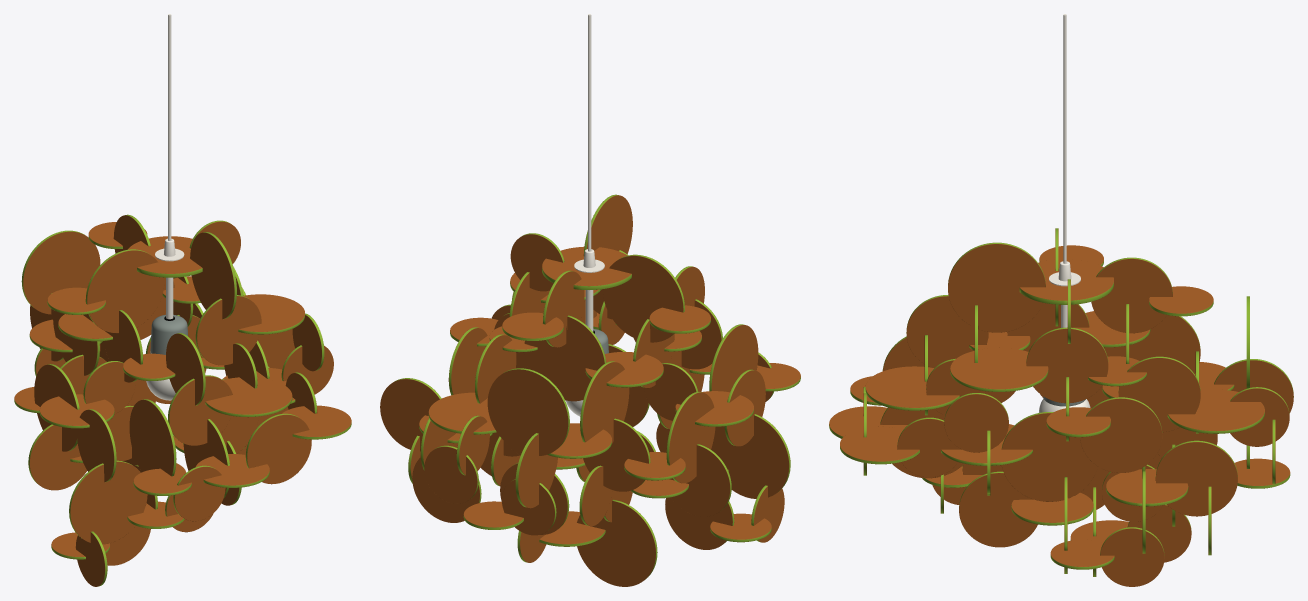
Rendered from baupendantlargenature.FBX.
3 renders of one model, left to right at view 1: azimuth 30°, elevation 25°; view 2: azimuth 150°, elevation 25°; view 3: azimuth 270°, elevation 25°, orthographic. The views are drawn at different scales.
Visible parts, largest first — view 1: p086, P062, p109, p091, P088, P080, P061, p087, P089, p106, p089, P069 (+39 smaller); view 2: p109, P093, P062, p086, P084, P074, P067, p095, P089, P065, p087, p115 (+39 smaller); view 3: P061, p104, p113, P071, P086, P098, P079, p099, P081, P087, p118, P075 (+30 smaller).
Boxes of the visible parts, x1,y1,x2,y2 form: p086: [69, 460, 147, 544]; P062: [85, 249, 164, 333]; p109: [21, 230, 100, 314]; p091: [245, 413, 311, 484]; P088: [195, 295, 261, 365]; P080: [168, 375, 232, 445]; P061: [190, 232, 236, 319]; p087: [129, 399, 176, 476]; P089: [28, 424, 87, 490]; p106: [205, 377, 292, 417]; p089: [173, 465, 225, 521]; P069: [77, 409, 116, 482]; p109: [487, 368, 569, 455]; P093: [577, 499, 657, 586]; P062: [602, 254, 684, 342]; p086: [711, 414, 790, 498]; P084: [524, 315, 606, 401]; P074: [380, 378, 441, 451]; P067: [666, 391, 715, 483]; p095: [580, 361, 629, 443]; P089: [669, 444, 731, 516]; P065: [583, 418, 650, 491]; p087: [709, 324, 758, 392]; p115: [424, 445, 478, 503]; P061: [948, 242, 1045, 332]; p104: [1001, 412, 1097, 501]; p113: [1080, 397, 1162, 472]; P071: [1155, 440, 1237, 516]; P086: [1026, 327, 1108, 403]; P098: [1091, 257, 1172, 333]; P079: [959, 471, 1037, 547]; p099: [1118, 356, 1200, 432]; P081: [906, 295, 988, 367]; P087: [950, 347, 1048, 391]; p118: [944, 393, 1008, 452]; P075: [1100, 527, 1164, 586].
Bounding box in the file's own units: 48.7 × 79.12 × 57.57.
